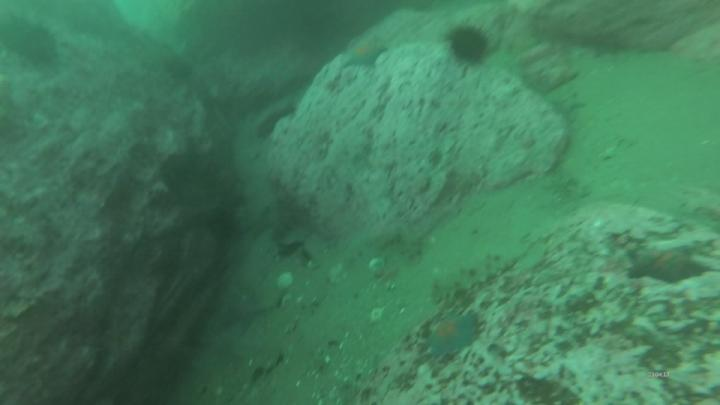echinus: (1, 18, 58, 65), (451, 29, 489, 63)
holothurian: (432, 260, 507, 301)
starfish: (628, 244, 713, 283), (427, 313, 476, 358), (228, 294, 267, 332), (346, 38, 384, 67), (549, 90, 584, 119)
